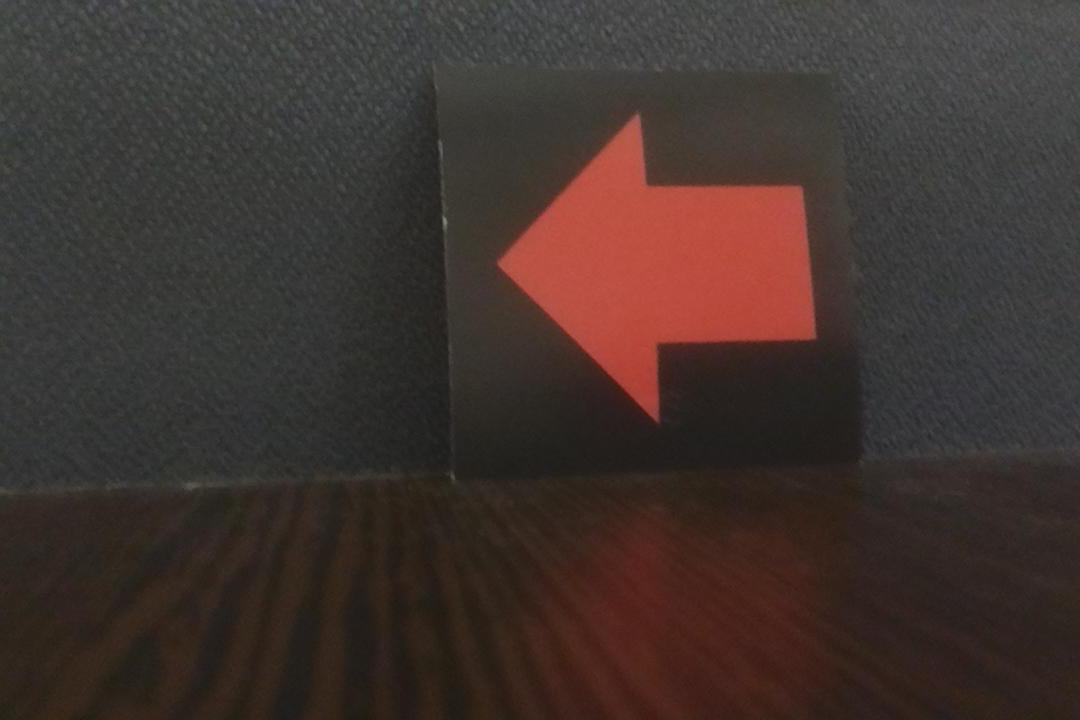left: (431, 62, 864, 464)
